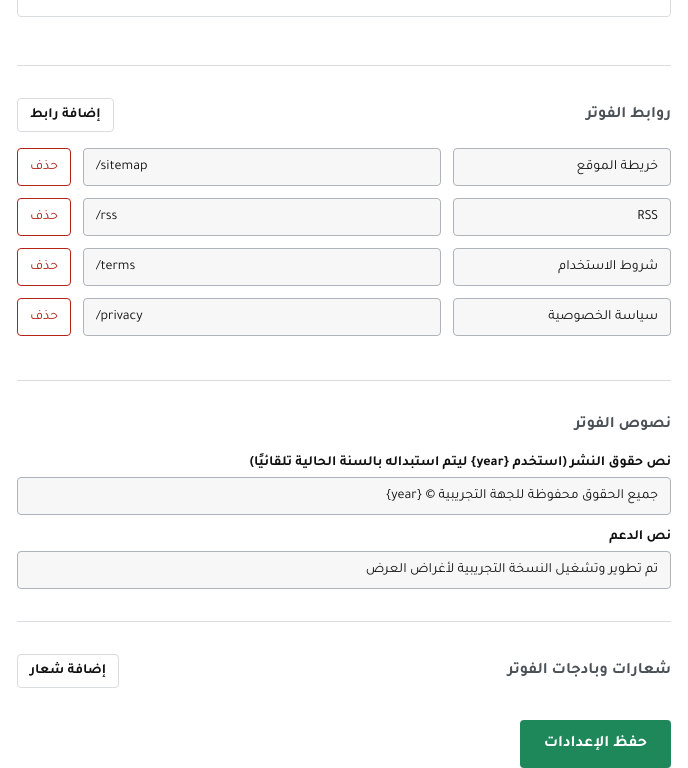
Test case: SettingsPage › shows an error message when saving fails
The width and height of the screenshot is (688, 768).
(page scrolled)
Click the button "حفظ الإعدادات".
click(595, 744)  # box x1=520 y1=720 x2=671 y2=767
(page scrolled)
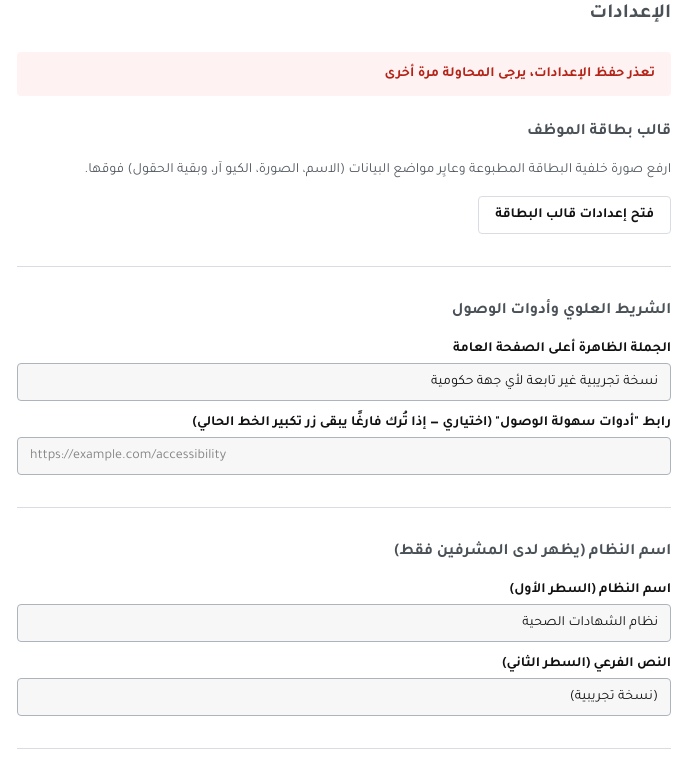
Now the text "تعذر حفظ الإعدادات، يرجى المحاولة مرة أخرى" is shown, box x1=17 y1=52 x2=671 y2=96
